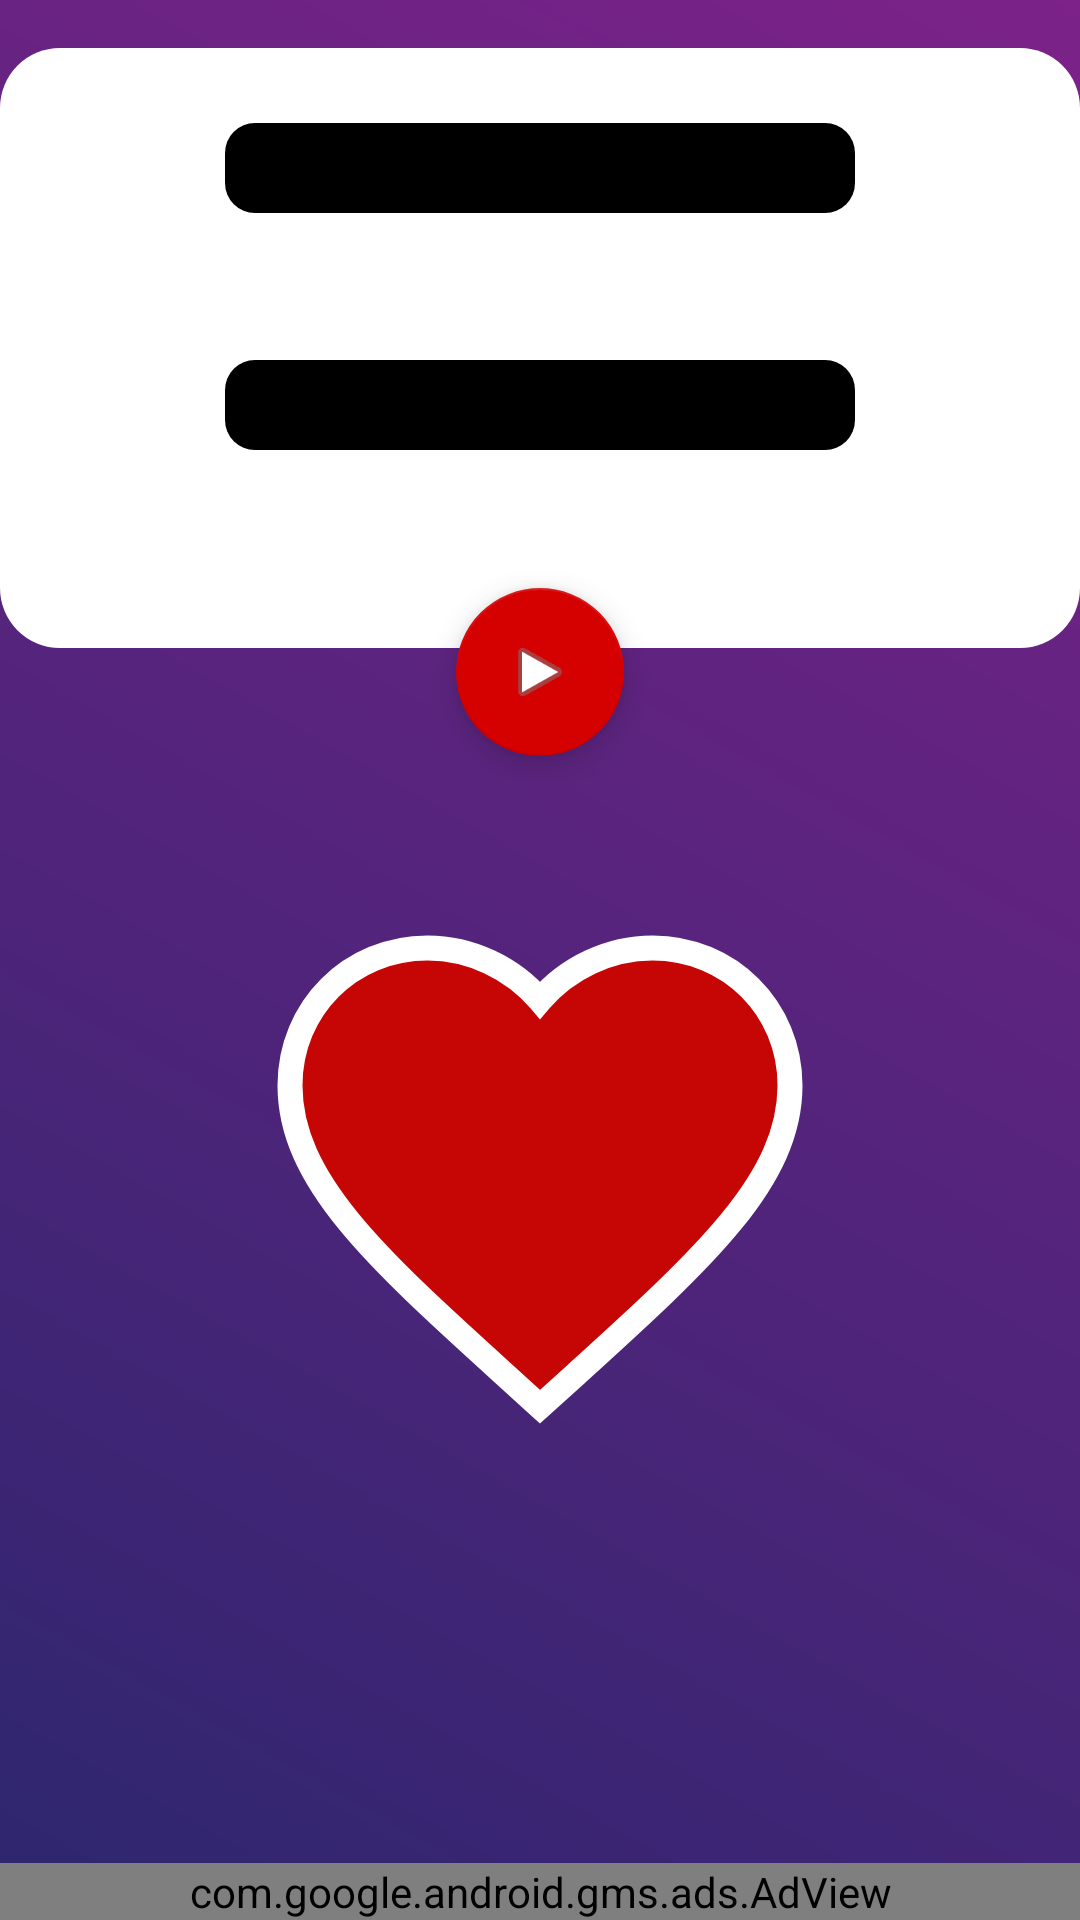

Where to tap for icons on this 1080px x 1920px app screen, as (x=x, y=y):
play: (x=540, y=672)
